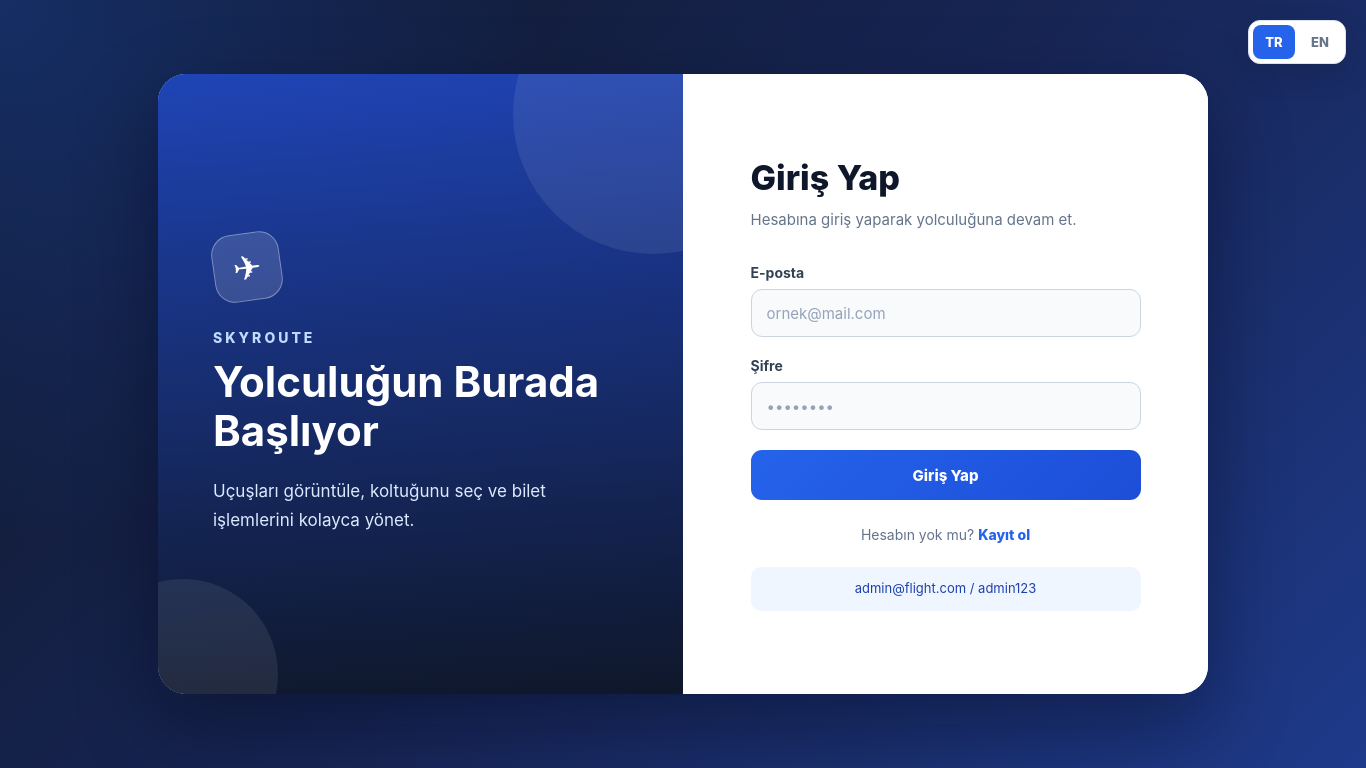
Test: routing, roles and language › changes the application language to English
The width and height of the screenshot is (1366, 768).
Click the button with aria-label "English" at x=1320, y=42, box [1299, 25, 1341, 59]
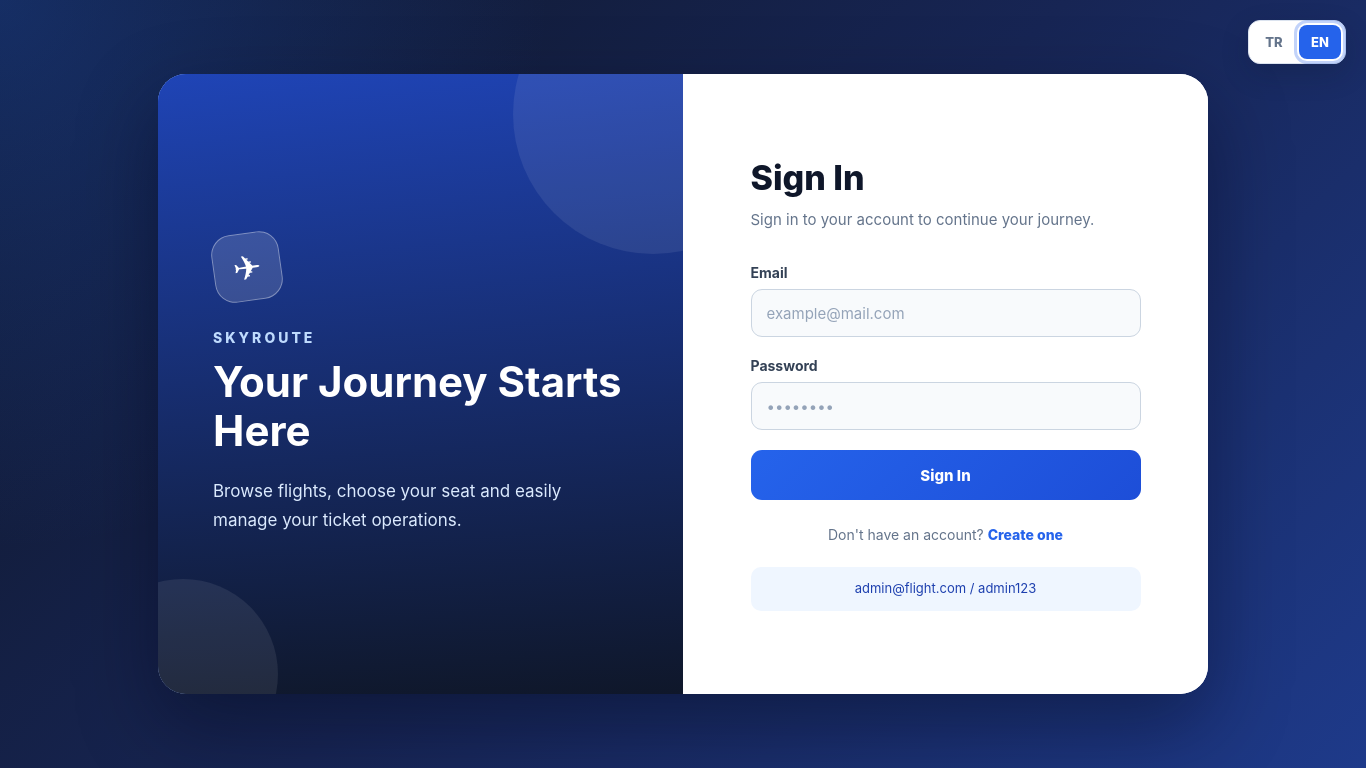
Check: the heading "Sign In" is shown, box [750, 157, 865, 198]
